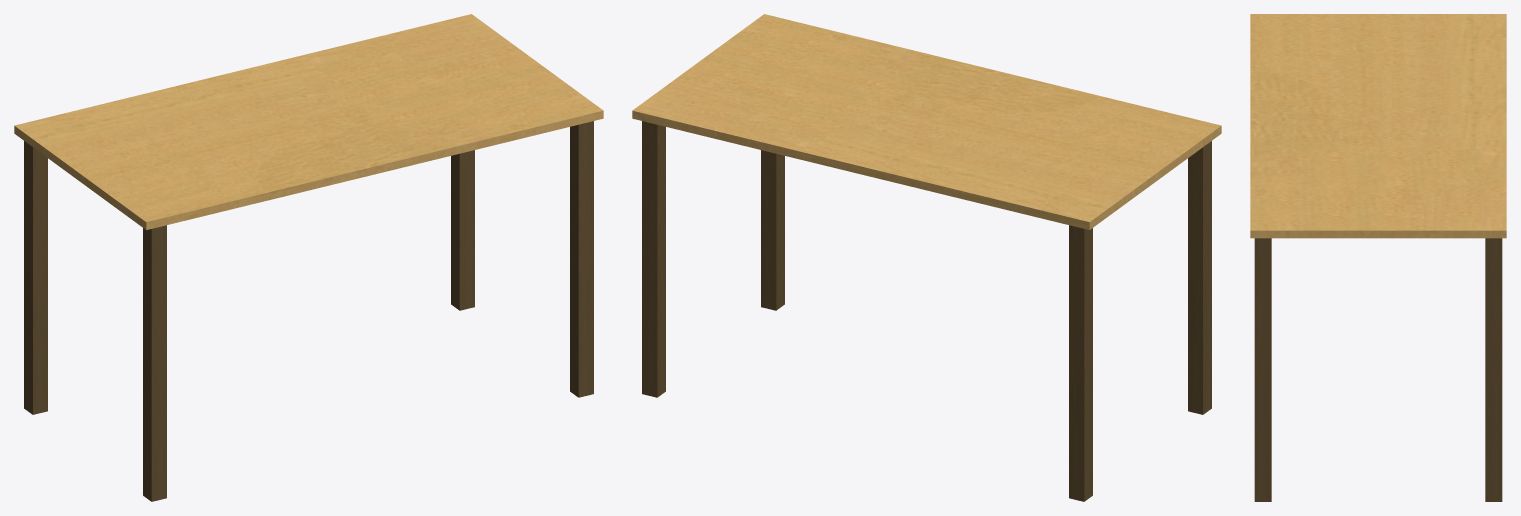
File: table.dae
3 views of the same model, side by side, from view 1: azimuth 30°, elevation 25°; view 2: azimuth 150°, elevation 25°; view 3: azimuth 270°, elevation 25° (orthographic). The views are drawn at different scales.
Parts seen in each view (by area): view 1: mat2, mat1; view 2: mat2, mat1; view 3: mat2, mat1.
Boxes of the visible parts, x1=… form: mat2: x1=14, y1=14, x2=603, y2=229; mat1: x1=24, y1=121, x2=593, y2=501; mat2: x1=632, y1=14, x2=1221, y2=229; mat1: x1=642, y1=121, x2=1211, y2=501; mat2: x1=1250, y1=14, x2=1506, y2=238; mat1: x1=1254, y1=238, x2=1502, y2=501.
Bounding box in the file's own units: 1.2 × 0.6 × 0.71.
